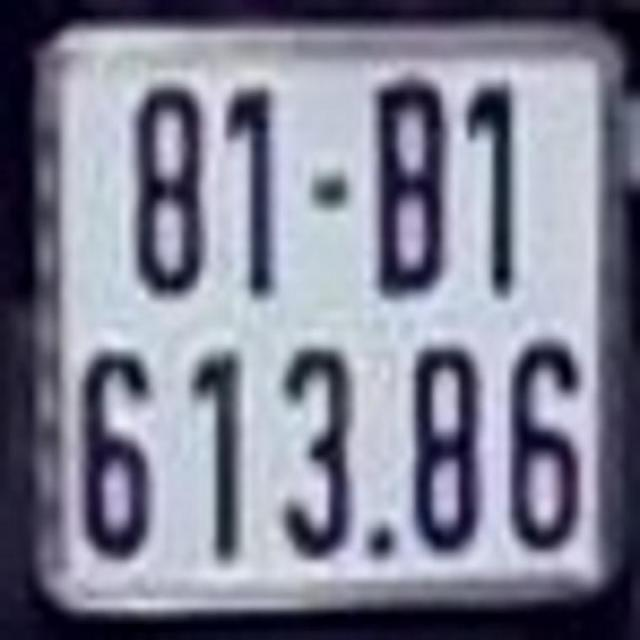1: (458, 65, 536, 296), (180, 337, 256, 562), (216, 72, 288, 297)
3: (272, 340, 356, 566)
6: (76, 328, 154, 564), (506, 332, 586, 552)
8: (410, 332, 480, 559), (132, 80, 205, 297)
B: (371, 74, 448, 296)
